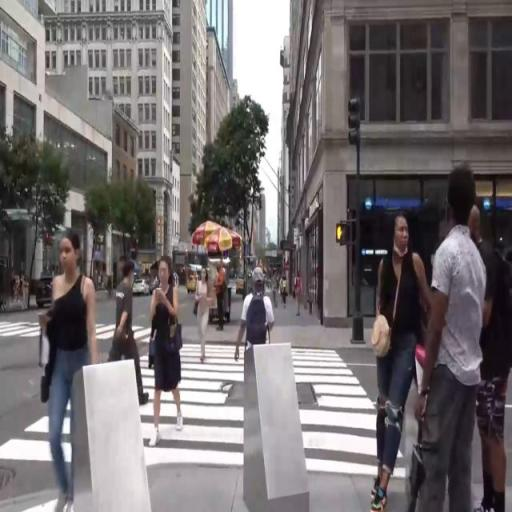person: (420, 177, 489, 512), (37, 221, 106, 512), (362, 211, 420, 512), (471, 196, 512, 512), (148, 253, 185, 460), (237, 259, 279, 417), (109, 255, 143, 414), (197, 267, 214, 362), (216, 255, 231, 340), (294, 265, 307, 325), (282, 271, 290, 315), (24, 275, 32, 316), (274, 272, 279, 313)
